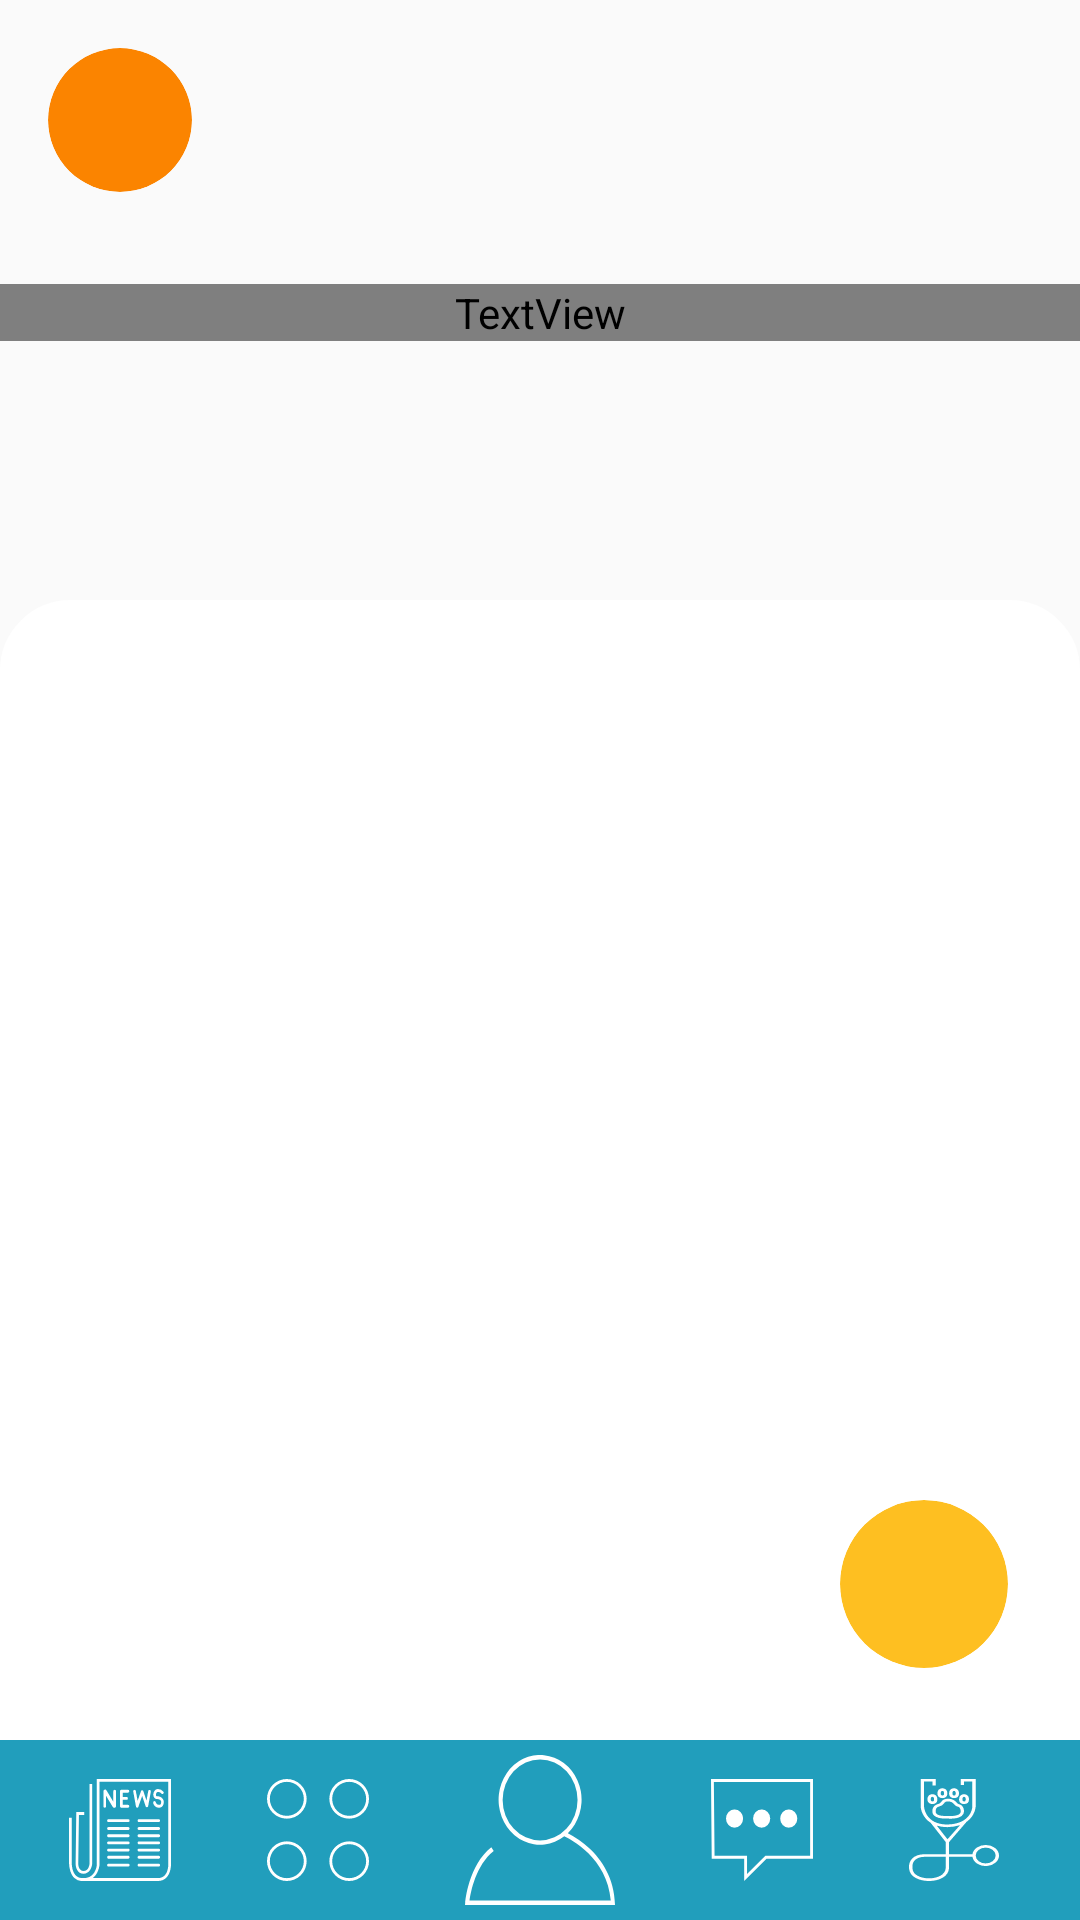

Point at icon controls on the screen. Image size 1080 x 1920, points as (x=x, y=y).
Message: (x=762, y=1830)
Vets: (x=954, y=1830)
